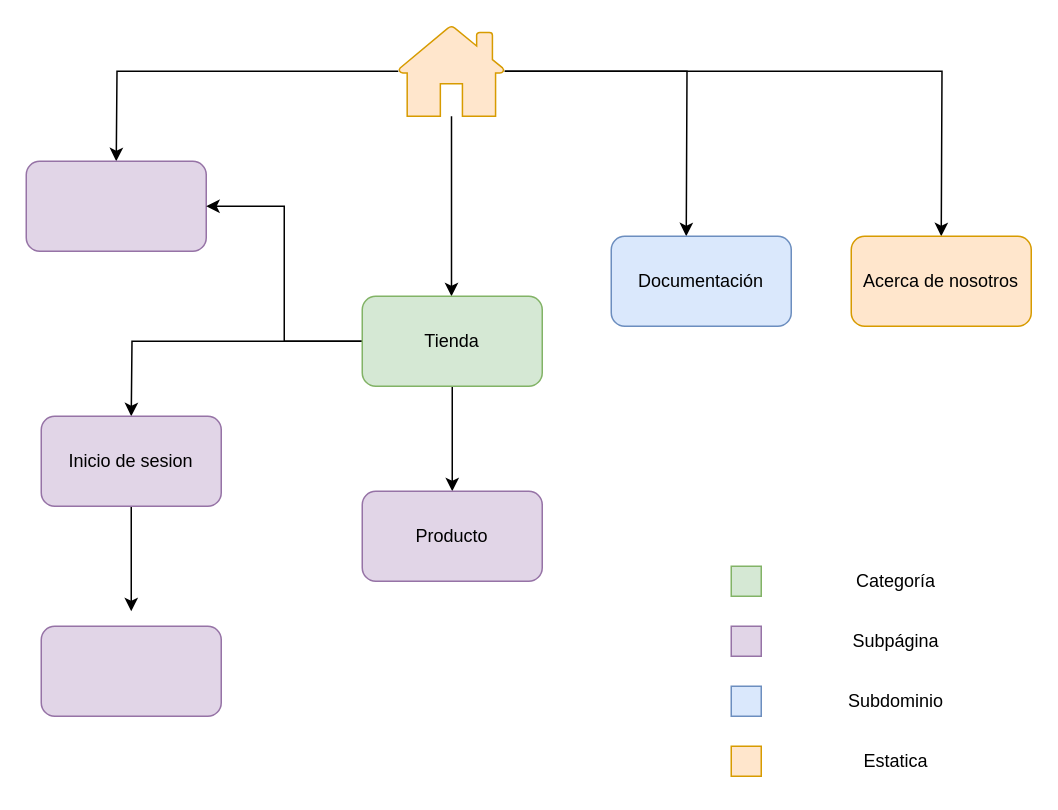
Some shapes in this 1058 by 810 pixel diagram are drawn without their labels. Each missing label, with the centre of its shape:
Registro: pixel 130 670
Software: pixel 115 205
